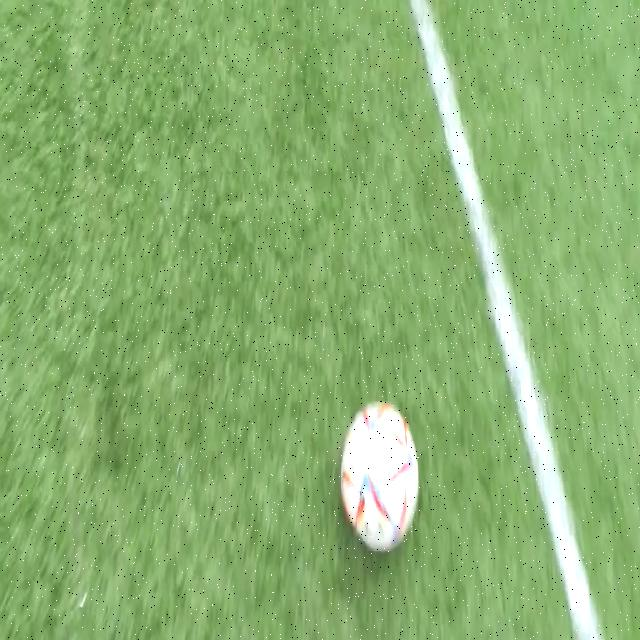ball: (341, 402, 418, 551)
